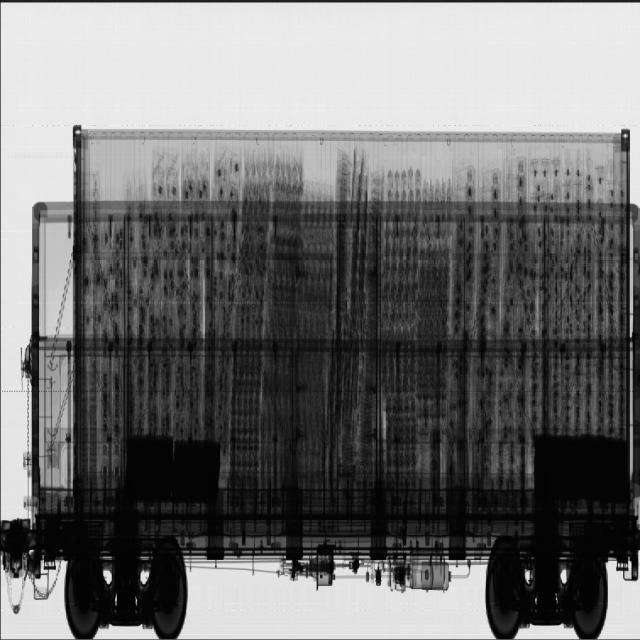tablware: (377, 169, 448, 490)
